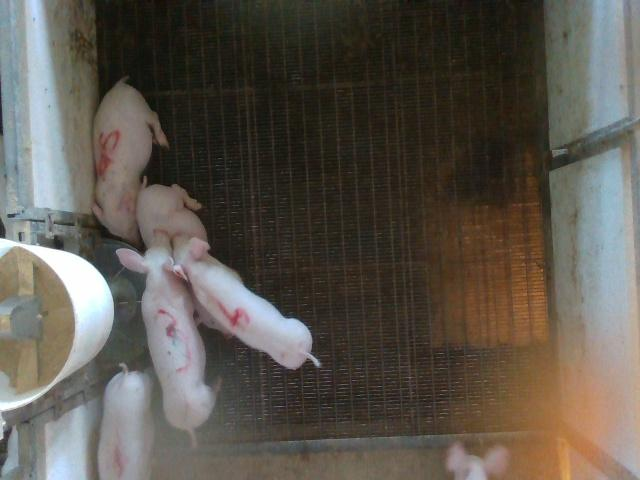pig-1: (98, 364, 154, 479)
pig-3: (118, 231, 215, 444)
pig-4: (172, 235, 320, 368)
pig-5: (92, 76, 169, 247)
